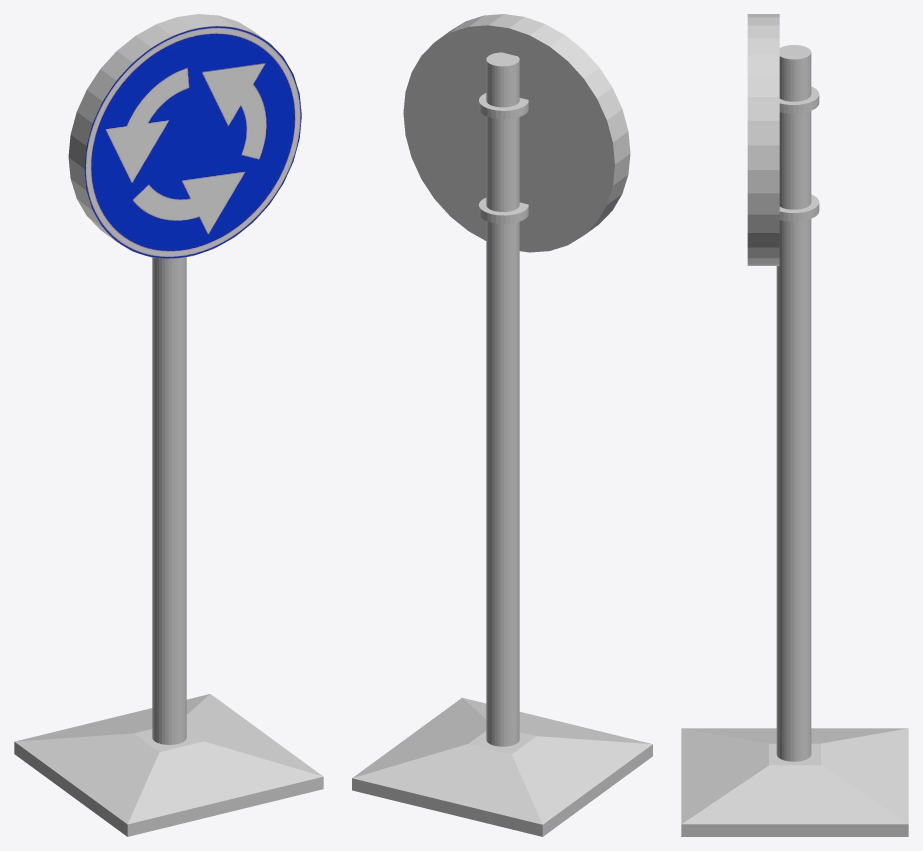
Rendered from kavsak.dae.
3 views of the same model, side by side, from view 1: azimuth 30°, elevation 25°; view 2: azimuth 150°, elevation 25°; view 3: azimuth 270°, elevation 25° (orthographic). The views are drawn at different scales.
Visible parts, largest first — view 1: Cylinder.001; view 2: Cylinder.001; view 3: Cylinder.001.
Boxes of the visible parts, x1,y1,x2,y2 form: Cylinder.001: (14, 14, 323, 836); Cylinder.001: (352, 14, 652, 836); Cylinder.001: (681, 14, 908, 836).
Bounding box in the file's own units: 0.83 × 0.7483 × 2.77.
Materials: 2 (1 with a texture image).
